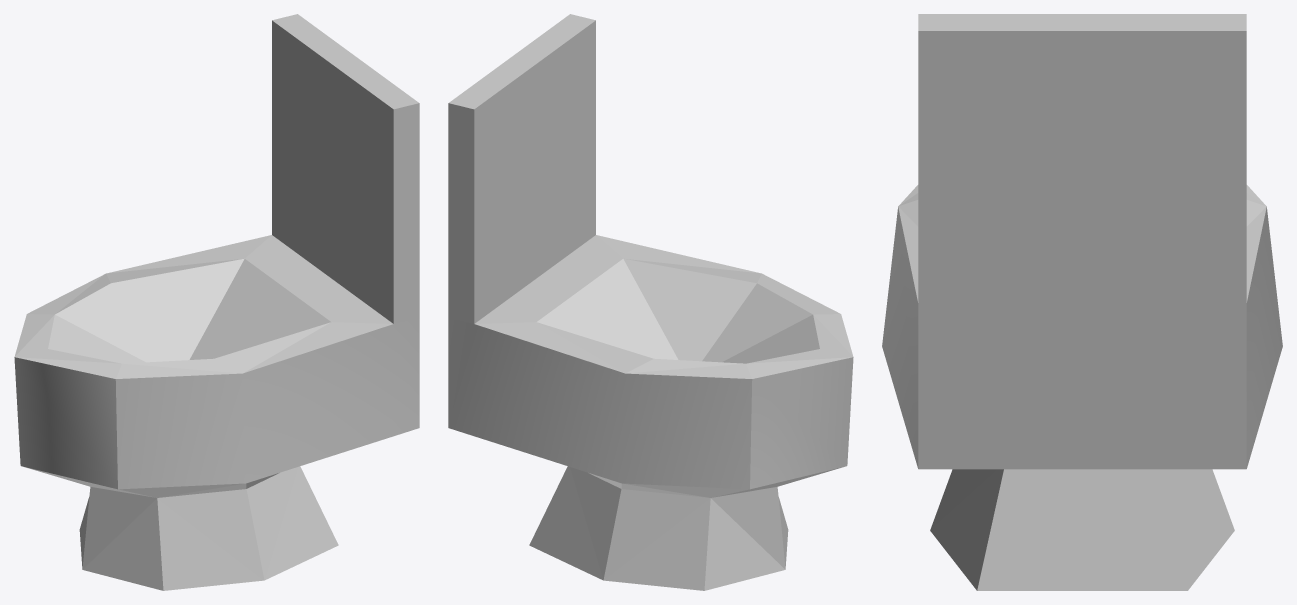
The model's file is toilet.FBX.
3 views of the same model, side by side, from view 1: azimuth 30°, elevation 25°; view 2: azimuth 150°, elevation 25°; view 3: azimuth 270°, elevation 25° (orthographic). The views are drawn at different scales.
Parts seen in each view (by area): view 1: toilet; view 2: toilet; view 3: toilet.
Boxes of the visible parts, bbox=[...] form: toilet: bbox=[14, 14, 419, 590]; toilet: bbox=[448, 14, 853, 590]; toilet: bbox=[882, 14, 1282, 590].
Size of the model in its own units: 11.22 by 13.83 by 8.39.
